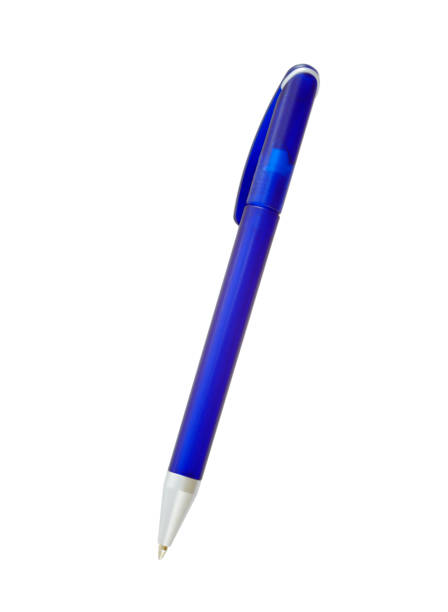pen: (126, 25, 335, 568)
